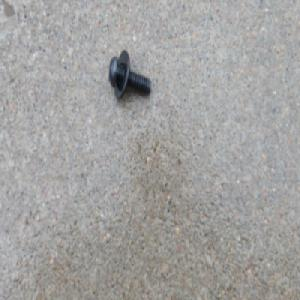BoltWasher: (107, 49, 151, 100)
